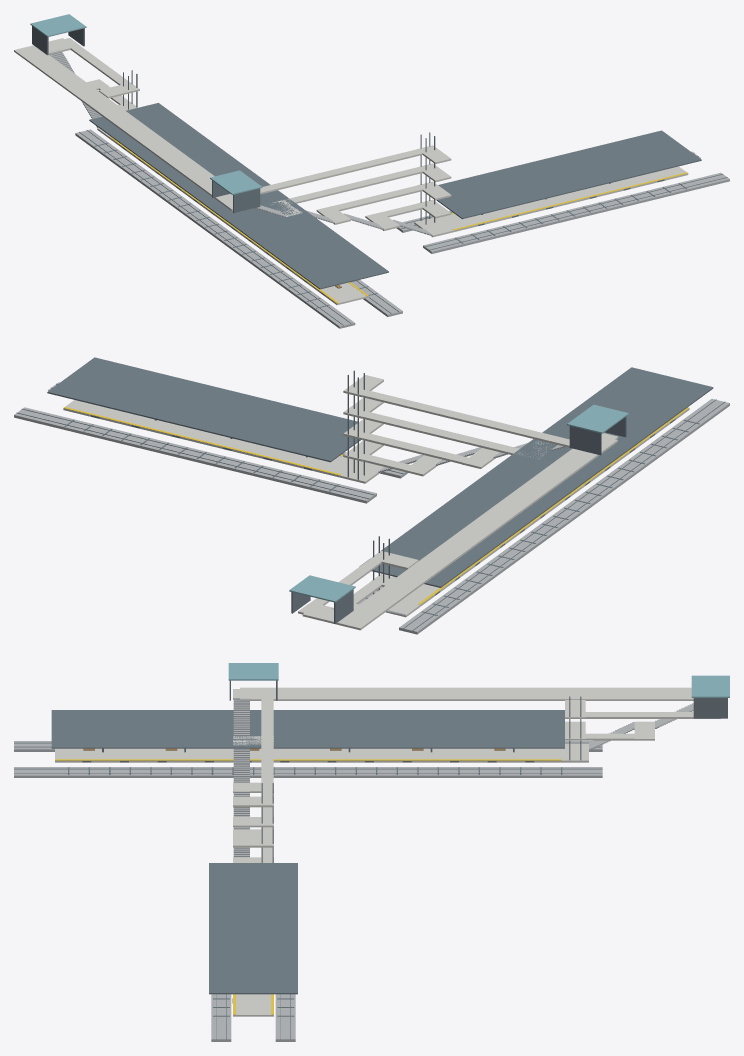
File: waterfront.glb
3 renders of one model, top to bottom at view 1: azimuth 30°, elevation 25°; view 2: azimuth 150°, elevation 25°; view 3: azimuth 270°, elevation 25°, orthographic. The views are drawn at different scales.
Visible parts, largest first — view 1: batch-removable-roof-steel, batch-trackbed-concrete, floor-waterfront-lobby-transfer-northsouth, floor-waterfront-canada, batch-rail-steel, batch-removable-roof-glass, floor-waterfront-canada-lift-side, batch-static-steel, floor-waterfront-expo, floor-waterfront-canada-lift-corridor-3, batch-static-yellow, batch-stair-tread-concrete (+3 smaller); view 2: batch-removable-roof-steel, batch-trackbed-concrete, floor-waterfront-lobby-transfer-northsouth, floor-waterfront-canada, batch-rail-steel, batch-removable-roof-glass, floor-waterfront-canada-lift-side, batch-static-steel, floor-waterfront-canada-lift-corridor-3, batch-static-yellow, floor-waterfront-expo, floor-waterfront-canada-lift-corridor-2 (+5 smaller); view 3: batch-removable-roof-steel, batch-trackbed-concrete, floor-waterfront-expo, floor-waterfront-lobby-transfer-northsouth, batch-rail-steel, batch-stair-tread-concrete, batch-removable-roof-glass, floor-waterfront-canada-lift-side, batch-static-yellow, batch-static-steel, floor-waterfront-expo-lift-side, floor-waterfront-canada.
Part boxes in pixels (<box>): batch-removable-roof-steel: <box>89,103,701,289</box>; batch-trackbed-concrete: <box>75,129,729,328</box>; floor-waterfront-lobby-transfer-northsouth: <box>14,45,232,210</box>; floor-waterfront-canada: <box>437,166,688,231</box>; batch-rail-steel: <box>79,130,727,325</box>; batch-removable-roof-glass: <box>30,14,262,194</box>; floor-waterfront-canada-lift-side: <box>219,146,438,201</box>; batch-static-steel: <box>32,26,610,214</box>; floor-waterfront-expo: <box>109,137,368,305</box>; floor-waterfront-canada-lift-corridor-3: <box>271,165,438,205</box>; batch-static-yellow: <box>110,136,687,303</box>; batch-stair-tread-concrete: <box>49,49,432,235</box>; batch-removable-roof-steel: <box>47,357,713,587</box>; batch-trackbed-concrete: <box>14,382,729,634</box>; floor-waterfront-lobby-transfer-northsouth: <box>336,439,617,630</box>; floor-waterfront-canada: <box>63,400,359,477</box>; batch-rail-steel: <box>16,383,725,630</box>; batch-removable-roof-glass: <box>289,404,628,602</box>; floor-waterfront-canada-lift-side: <box>344,386,569,447</box>; batch-static-steel: <box>154,416,626,623</box>; floor-waterfront-canada-lift-corridor-3: <box>344,407,530,456</box>; batch-static-yellow: <box>63,407,688,604</box>; floor-waterfront-expo: <box>402,408,689,606</box>; floor-waterfront-canada-lift-corridor-2: <box>344,429,487,466</box>; batch-removable-roof-steel: <box>51,710,564,994</box>; batch-trackbed-concrete: <box>14,741,602,1041</box>; floor-waterfront-expo: <box>55,748,561,762</box>; floor-waterfront-lobby-transfer-northsouth: <box>240,687,693,700</box>; batch-rail-steel: <box>14,742,602,1039</box>; batch-stair-tread-concrete: <box>233,698,693,857</box>; batch-removable-roof-glass: <box>228,663,729,697</box>; floor-waterfront-canada-lift-side: <box>261,689,273,807</box>; batch-static-yellow: <box>55,759,561,1014</box>; batch-static-steel: <box>102,680,727,752</box>; floor-waterfront-expo-lift-side: <box>565,712,700,718</box>; floor-waterfront-canada: <box>233,994,273,1016</box>.
Size of the model in its own units: 92 by 18.17 by 105.
